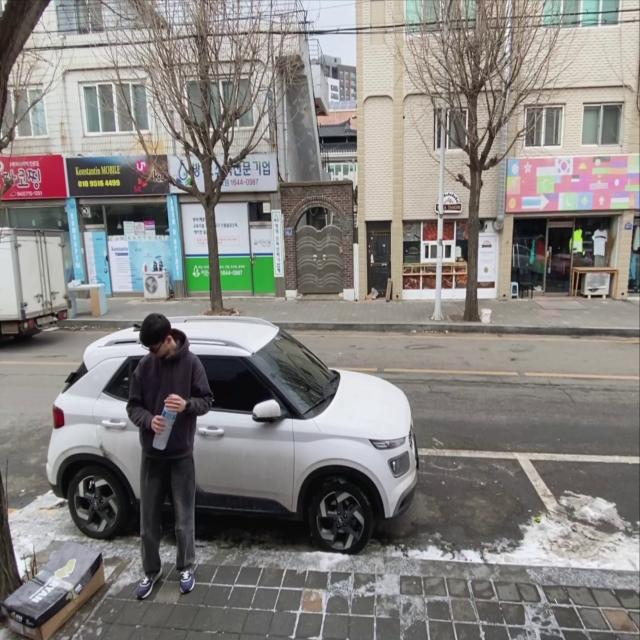bare_hand: (161, 393, 187, 413), (151, 410, 166, 441)
